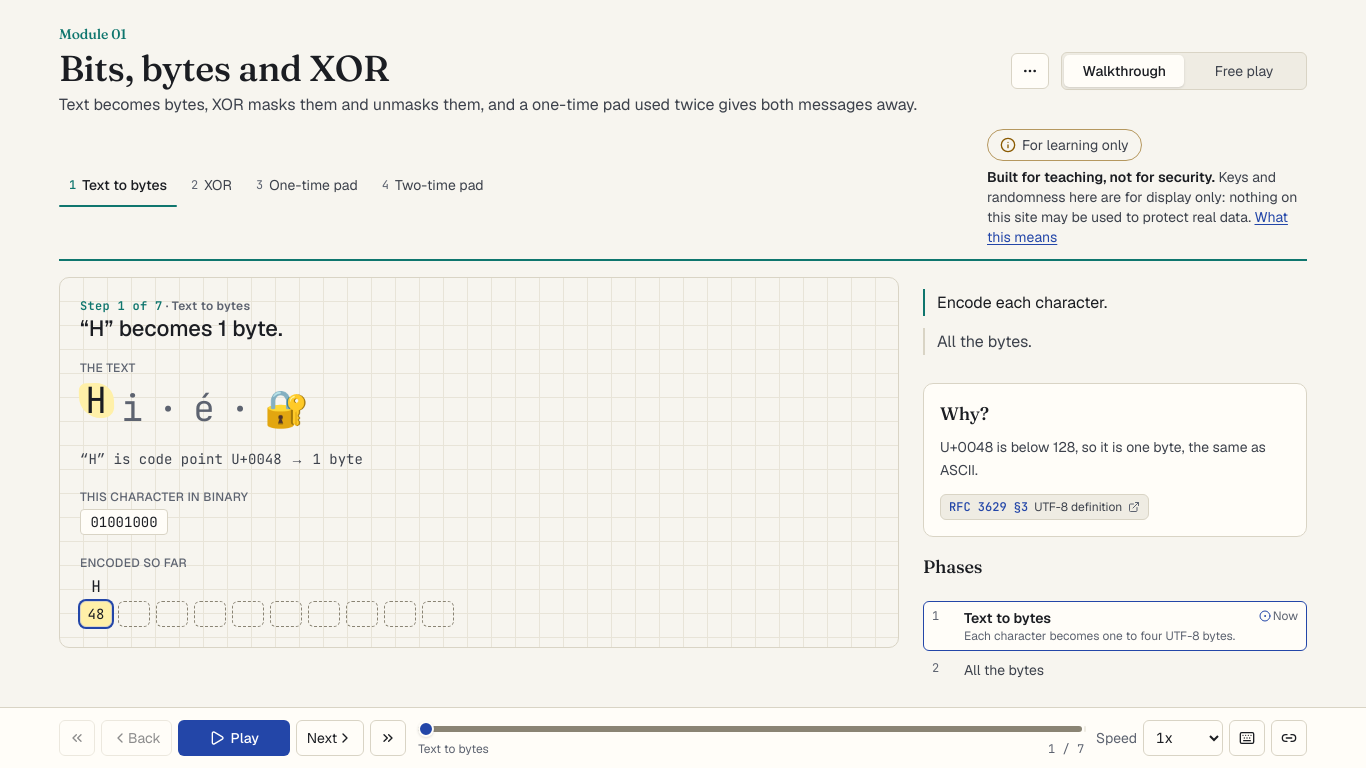
Test: XorModule › flips the bit columns with a wave and drops the byte onto the tape
Click the button "2 XOR": (212,185) 181,169 -> 242,201
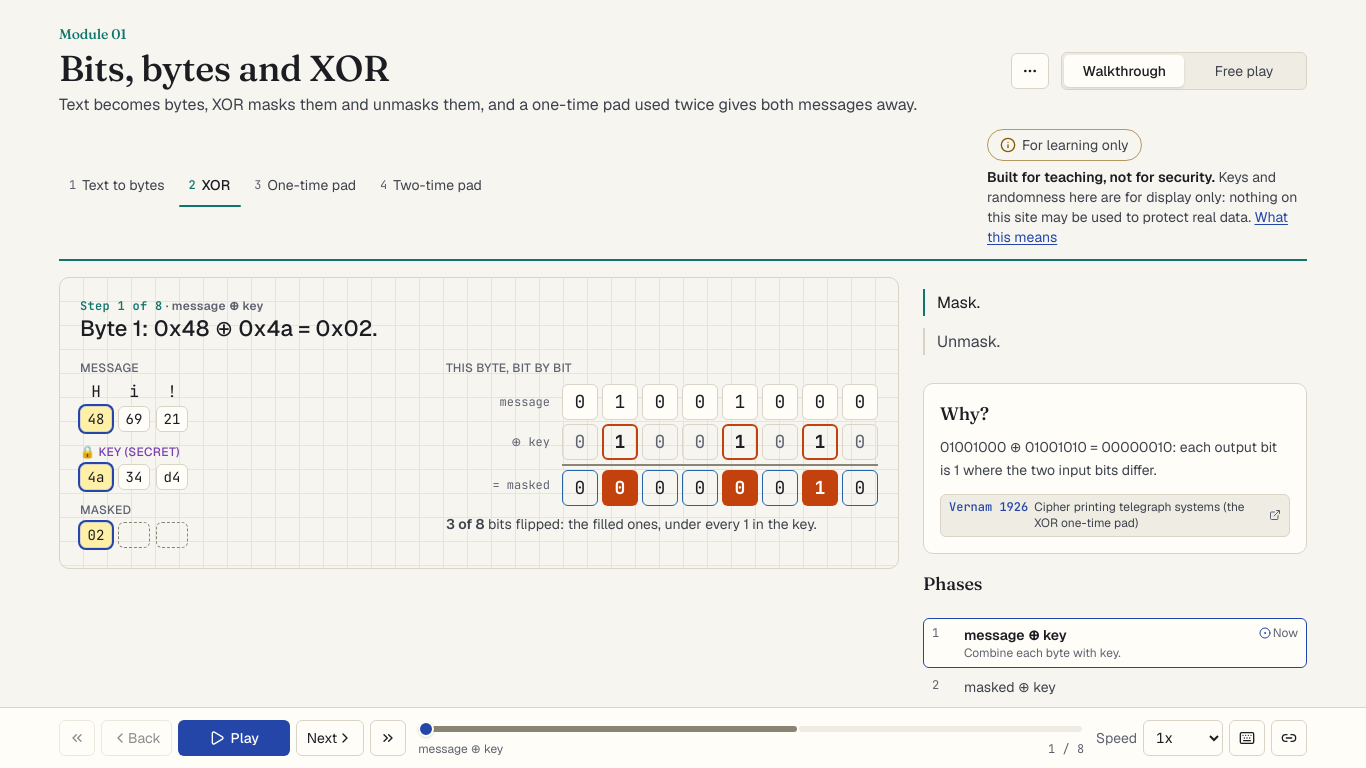
Press ArrowRight
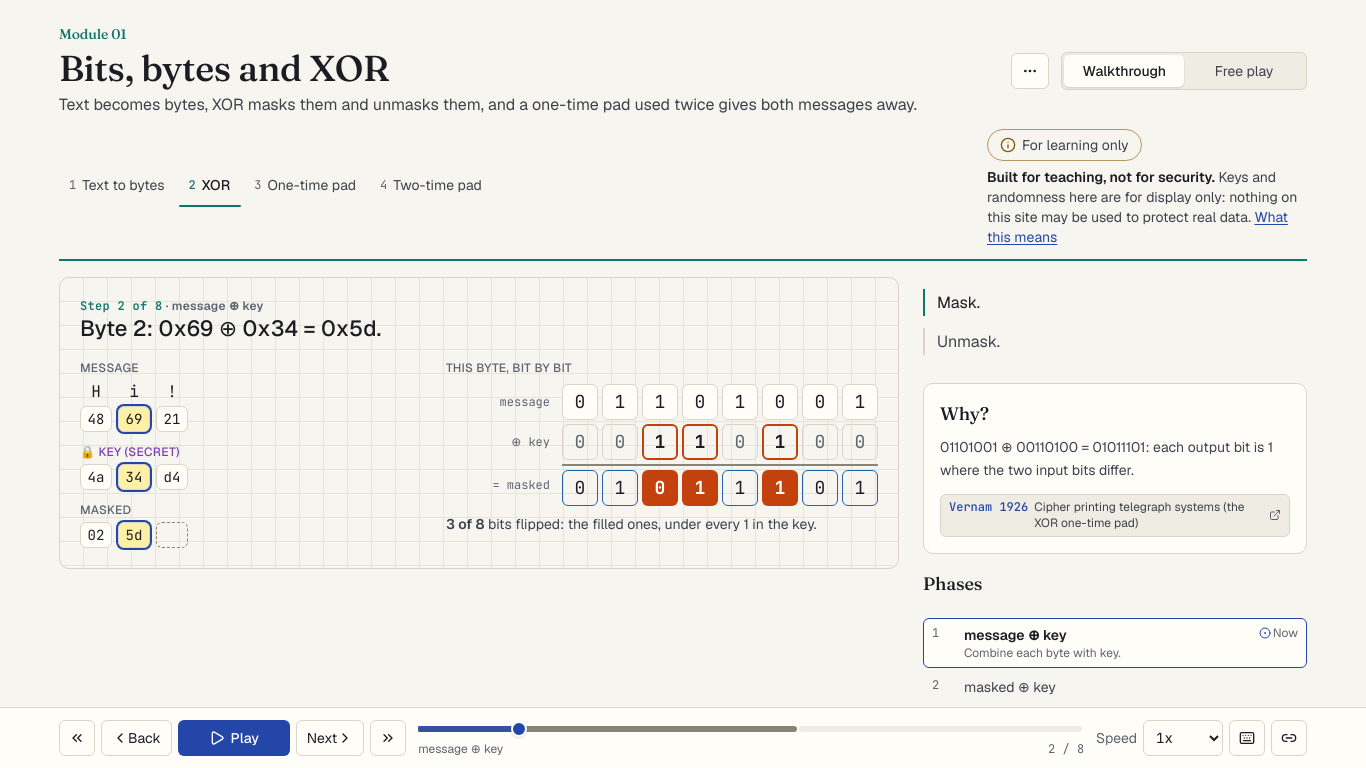
Check: the element with class "motion-wave" is shown, box 562,464 -> 878,506
Check: the element showing "5d" is shown, box 118,522 -> 150,548
